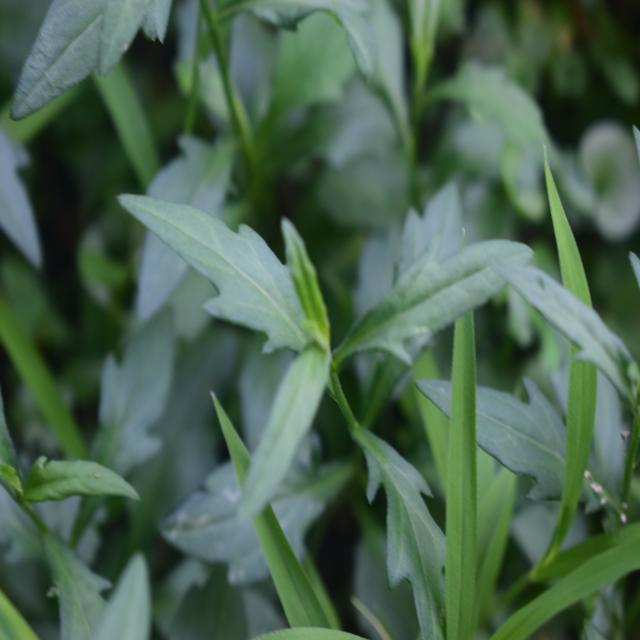Indian aster: (119, 164, 467, 550)
